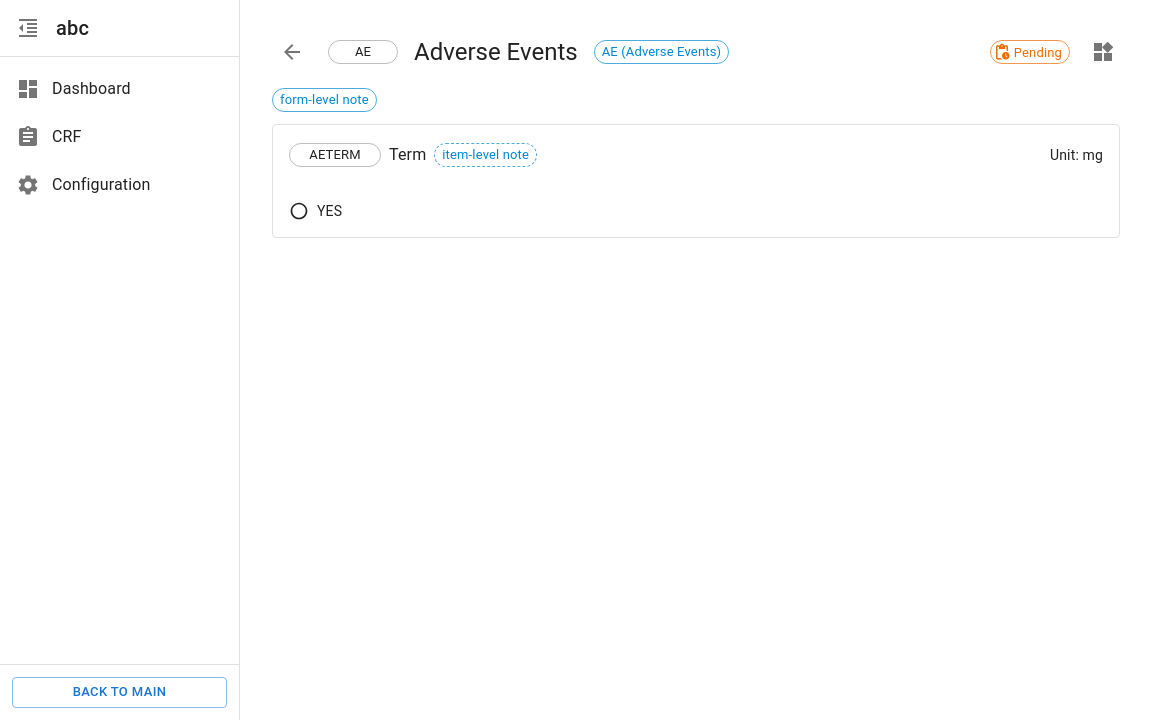
CrfDetailPage — mission-issue entry points › clicking an item code chip opens the dialog filtered to that item's code
This screenshot has width=1152, height=720.
What coordinates should you click on to do the following:
click the button with test id "crf-item-code-21"
I would click on:
 (335, 155)
Its box is top-left (289, 143), bottom-right (381, 167).
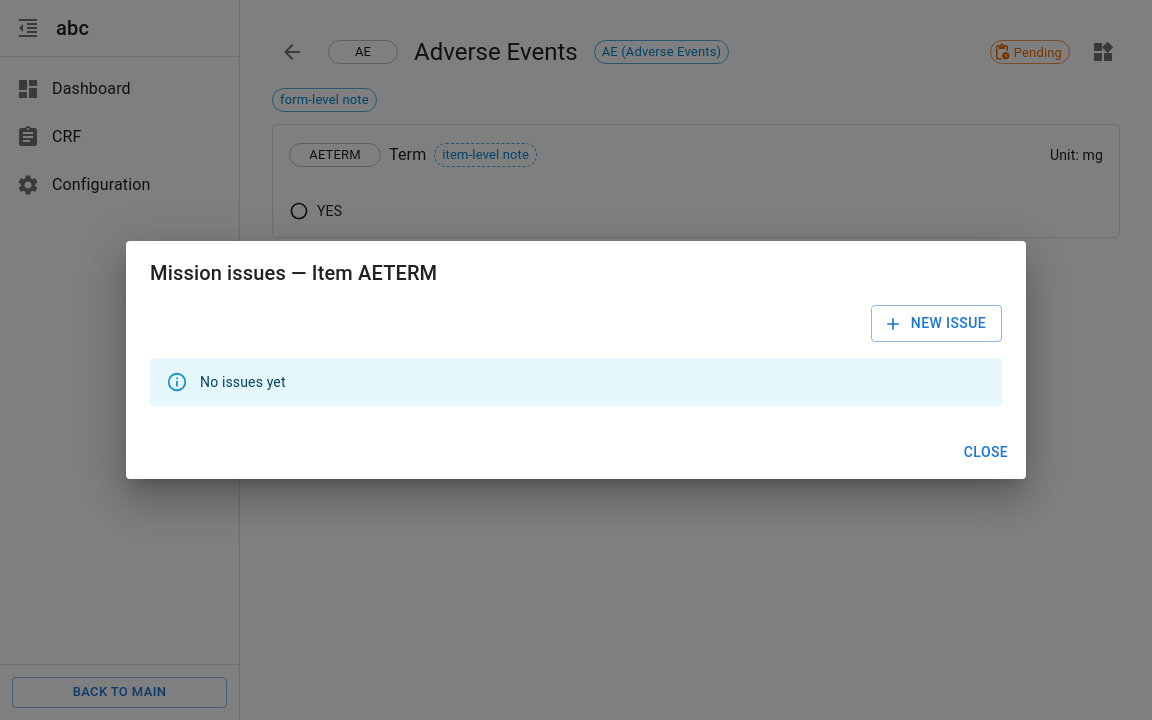
Now the heading "Mission issues — Item AETERM" is shown, box top-left (150, 262), bottom-right (437, 286)
